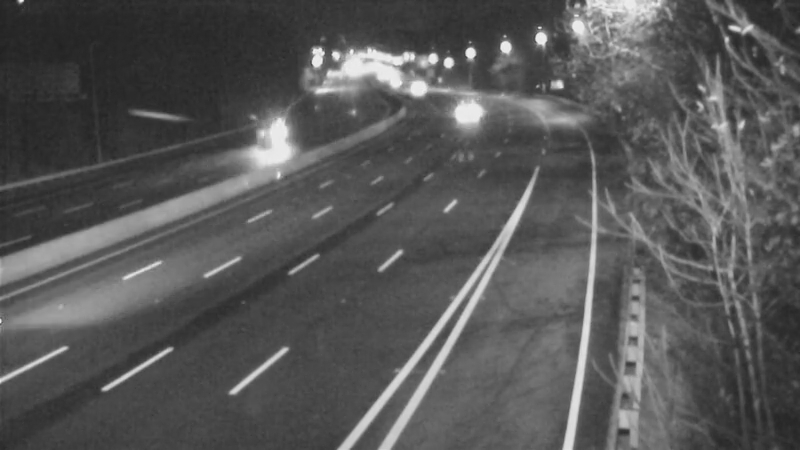vehicle: (388, 61, 438, 111), (440, 88, 490, 138), (244, 110, 294, 160)
